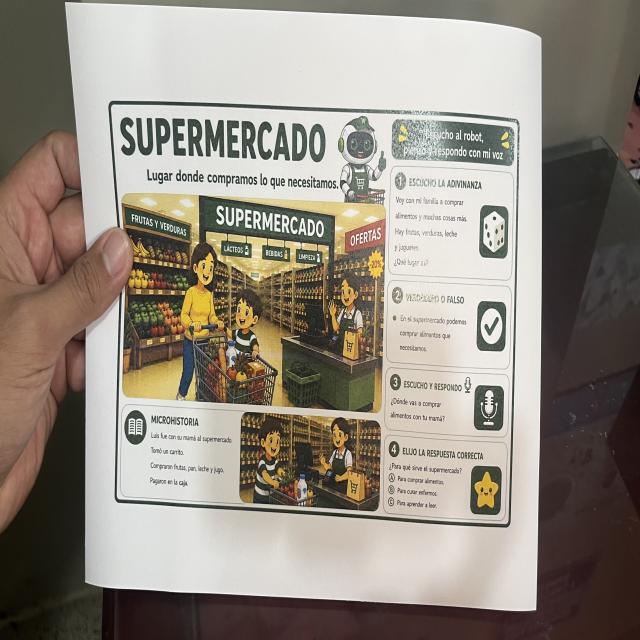supermercado: (105, 93, 523, 533)
